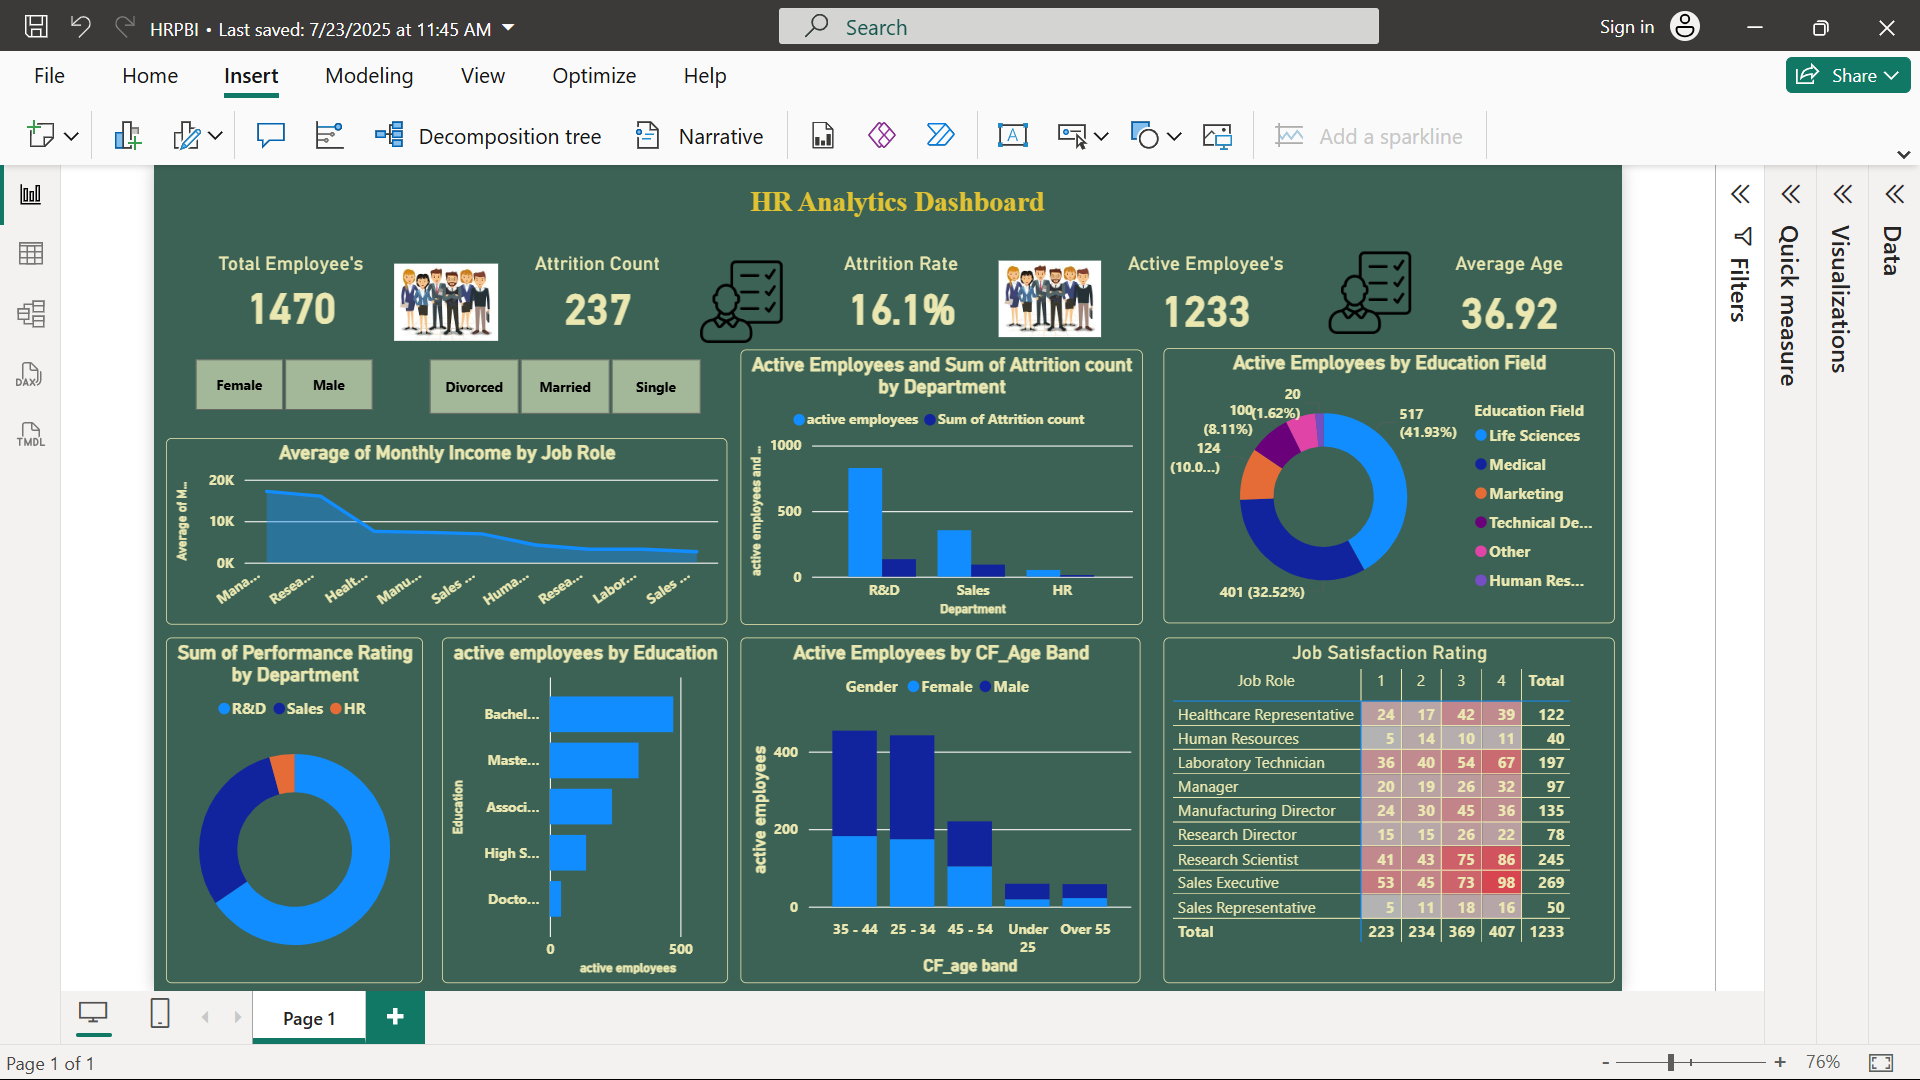

This screenshot's page, from the dashboard's own definition file:
{"tool":"powerbi","page":{"name":"Page 1","canvas":[1280,720],"ordinal":0},"visuals":[{"type":"card","title":"Total Employee''s","fields":{"Values":["Sum(HR data.Employee Count)"]},"box":[41,76.5,157.9,72.6],"z":0},{"type":"clusteredColumnChart","title":"Active Employees and Sum of Attrition count by Department","fields":{"Category":["HR data.Department"],"Y":["HR data.active employees","Sum(HR data.Attrition count)"]},"box":[511.6,161.1,350.5,240],"z":0},{"type":"card","title":"Attrition Count","fields":{"Values":["Sum(HR data.Attrition count)"]},"box":[306.3,75.8,161.1,74.2],"z":1000},{"type":"donutChart","title":"Active Employees by Education Field","fields":{"Y":["HR data.active employees"],"Category":["HR data.Education Field"]},"box":[879.5,159.5,393.2,240],"z":1000},{"type":"card","title":"Attrition Rate","fields":{"Values":["HR data.Attrition rate"]},"box":[570,75.8,162.6,74.2],"z":2000},{"type":"columnChart","title":"Active Employees by CF_Age Band","fields":{"Y":["HR data.active employees"],"Category":["HR data.CF_age band"],"Series":["HR data.Gender"]},"box":[511.6,412.1,349,301.6],"z":2000},{"type":"card","title":"Active Employee''s","fields":{"Values":["HR data.active employees"]},"box":[835.3,75.8,162.6,77.4],"z":3000},{"type":"pivotTable","title":"Job Satisfaction Rating","fields":{"Rows":["HR data.Job Role"],"Columns":["HR data.Job Satisfaction"],"Values":["HR data.active employees"]},"box":[879.5,412.1,393.2,301.6],"z":3000},{"type":"card","title":"Average Age","fields":{"Values":["Avg(HR data.Age)"]},"box":[1100.5,75.8,161.1,80.5],"z":4000},{"type":"donutChart","fields":{"Y":["Sum(HR data.Performance Rating)"],"Category":["HR data.Department"]},"box":[11.1,412.1,224.2,301.6],"z":4000},{"type":"barChart","fields":{"Category":["HR data.Education"],"Y":["HR data.active employees"]},"box":[251.1,412.1,249.5,301.6],"z":5000},{"type":"areaChart","fields":{"Category":["HR data.Job Role"],"Y":["Avg(HR data.Monthly Income)"]},"box":[11.1,238.4,489.5,162.6],"z":6000},{"type":"slicer","fields":{"Values":["HR data.Gender"]},"box":[11.1,162.6,203.7,58.4],"z":7000},{"type":"slicer","fields":{"Values":["HR data.Marital Status"]},"box":[214.7,162.6,285.8,61.6],"z":8000},{"type":"image","box":[203.7,69.5,101.1,101.1],"z":10000},{"type":"image","box":[470.5,75.8,82.1,86.8],"z":12000},{"type":"image","box":[731.1,66.3,99.5,99.5],"z":13000},{"type":"textbox","box":[442.1,12.6,412.1,41.1],"z":14000},{"type":"image","box":[1018.4,67.9,82.1,86.8],"z":14001}]}

Visuals, with their boxes on the page's 1280x720 design canvas (x1, y1, x2, y2). These are canvas units, not pixel positions in the 1920x1080 screenshot, which may show the page scaled, cropped or inside an application window:
"Total Employee''s" card: left=41, top=76, right=199, bottom=149
"Active Employees and Sum of Attrition count by Department" clusteredColumnChart: left=512, top=161, right=862, bottom=401
"Attrition Count" card: left=306, top=76, right=467, bottom=150
"Active Employees by Education Field" donutChart: left=880, top=160, right=1273, bottom=400
"Attrition Rate" card: left=570, top=76, right=733, bottom=150
"Active Employees by CF_Age Band" columnChart: left=512, top=412, right=861, bottom=714
"Active Employee''s" card: left=835, top=76, right=998, bottom=153
"Job Satisfaction Rating" pivotTable: left=880, top=412, right=1273, bottom=714
"Average Age" card: left=1100, top=76, right=1262, bottom=156
donutChart - Sum(HR data.Performance Rating) x HR data.Department: left=11, top=412, right=235, bottom=714
barChart - HR data.Education x HR data.active employees: left=251, top=412, right=501, bottom=714
areaChart - HR data.Job Role x Avg(HR data.Monthly Income): left=11, top=238, right=501, bottom=401
slicer - HR data.Gender: left=11, top=163, right=215, bottom=221
slicer - HR data.Marital Status: left=215, top=163, right=500, bottom=224
image: left=204, top=70, right=305, bottom=171
image: left=470, top=76, right=553, bottom=163
image: left=731, top=66, right=831, bottom=166
textbox: left=442, top=13, right=854, bottom=54
image: left=1018, top=68, right=1100, bottom=155
